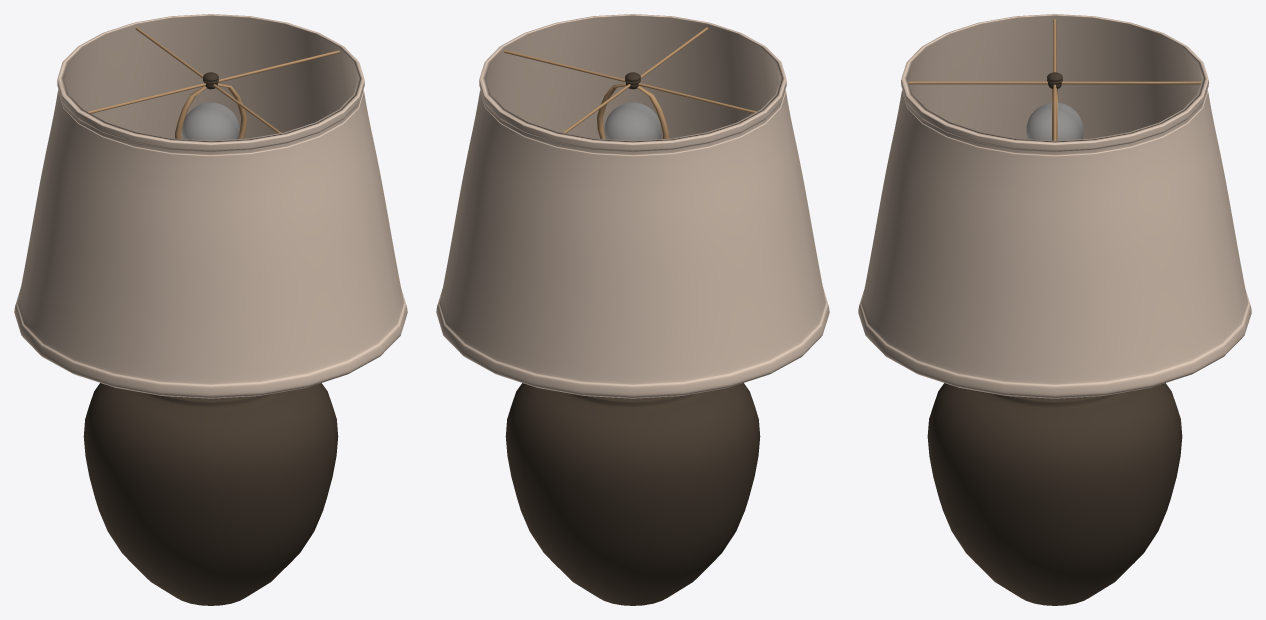
The model's file is lamp.fbx.
3 views of the same model, side by side, from view 1: azimuth 30°, elevation 25°; view 2: azimuth 150°, elevation 25°; view 3: azimuth 270°, elevation 25° (orthographic).
Parts seen in each view (by area): view 1: revolvedSurface3, revolvedSurface2, revolvedSurface5, pCylinder2; view 2: revolvedSurface3, revolvedSurface2, revolvedSurface5, pCylinder2; view 3: revolvedSurface3, revolvedSurface2, revolvedSurface5, pasted__pCylinder3, pCylinder3.
Part boxes in pixels (x1,y1,x2,y2): revolvedSurface3: (14, 14, 407, 398); revolvedSurface2: (83, 383, 338, 605); revolvedSurface5: (182, 102, 239, 140); pCylinder2: (175, 83, 246, 138); revolvedSurface3: (436, 14, 829, 398); revolvedSurface2: (505, 383, 760, 605); revolvedSurface5: (604, 102, 661, 140); pCylinder2: (597, 83, 668, 138); revolvedSurface3: (858, 14, 1251, 398); revolvedSurface2: (927, 383, 1182, 605); revolvedSurface5: (1026, 102, 1083, 140); pasted__pCylinder3: (1061, 81, 1201, 84); pCylinder3: (908, 81, 1047, 84).
Bounding box in the file's own units: 4.81 × 6.97 × 4.81.
